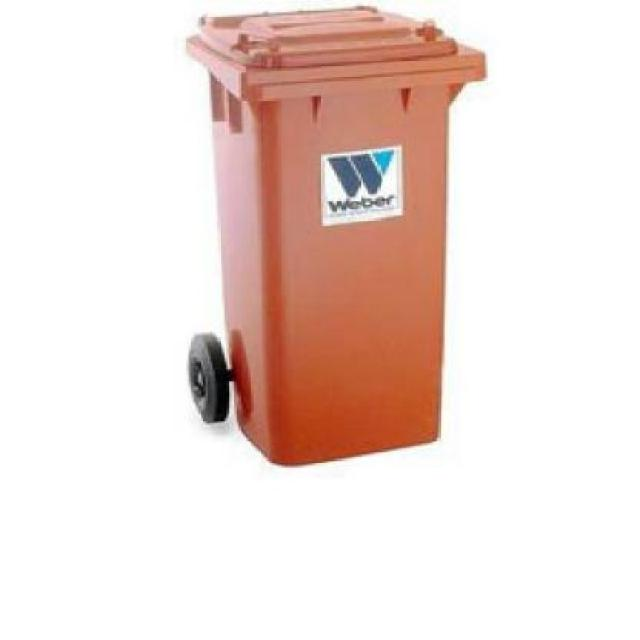garbage container: (158, 2, 499, 487)
